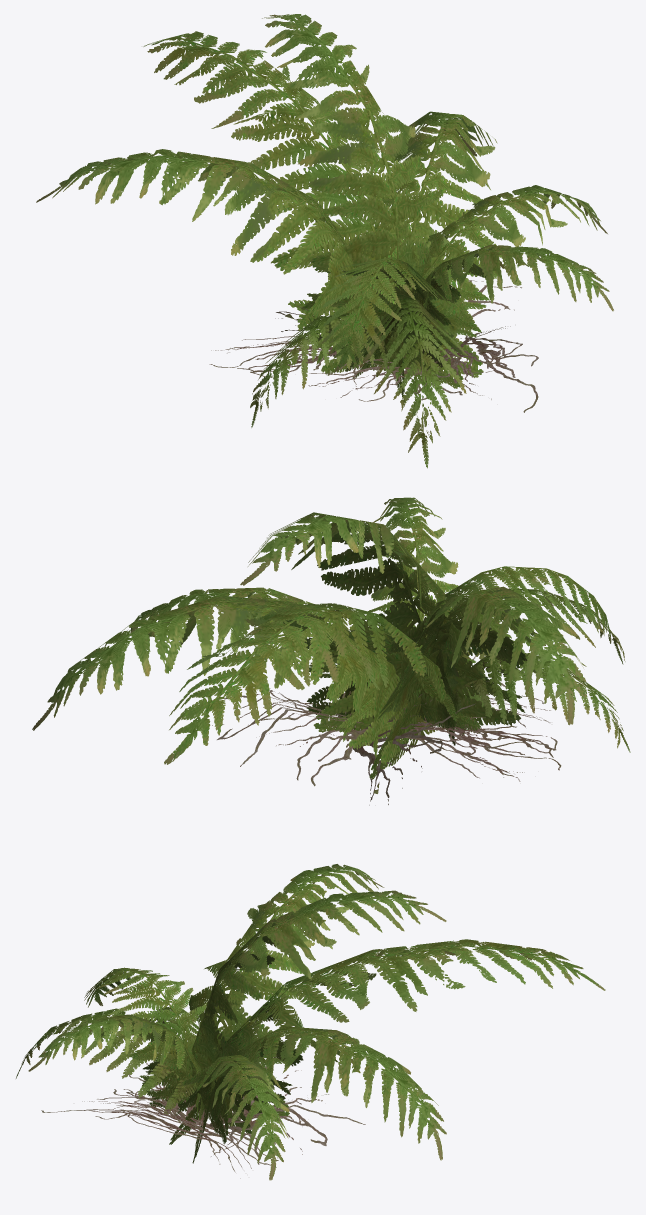
Rendered from SM_Fol_Fern3.fbx.
3 views of the same model, one above another, from view 1: azimuth 30°, elevation 25°; view 2: azimuth 150°, elevation 25°; view 3: azimuth 270°, elevation 25° (orthographic). The views are drawn at different scales.
Visible parts, largest first — view 1: SM_Fol_Fern3; view 2: SM_Fol_Fern3; view 3: SM_Fol_Fern3.
Part boxes in pixels (x1,y1,x2,y2): SM_Fol_Fern3: (36,14,613,468); SM_Fol_Fern3: (32,497,630,805); SM_Fol_Fern3: (16,864,605,1180).
Bounding box in the file's own units: 119 × 141 × 65.39.
1 material, 1 textured.
